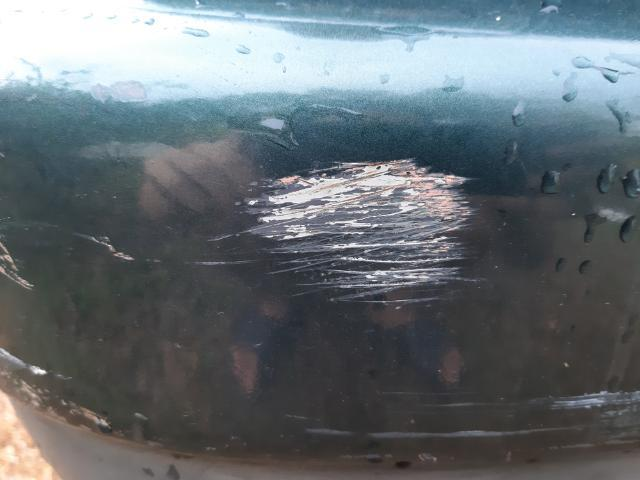scratch: (0, 153, 493, 309), (306, 388, 640, 460)
